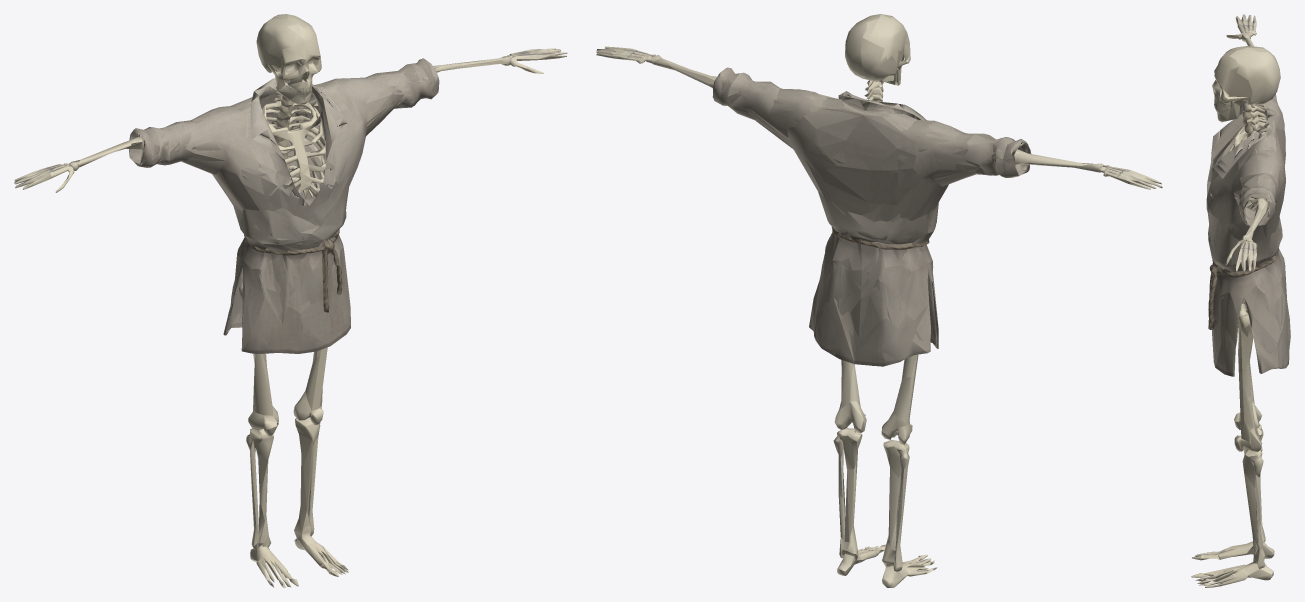
The model's file is skeleton_m.glb.
3 views of the same model, side by side, from view 1: azimuth 30°, elevation 25°; view 2: azimuth 150°, elevation 25°; view 3: azimuth 270°, elevation 25° (orthographic). The views are drawn at different scales.
Parts seen in each view (by area): view 1: SkeletonM; view 2: SkeletonM; view 3: SkeletonM.
Boxes of the visible parts, left/top/right/bottom form: SkeletonM: left=14, top=14, right=567, bottom=587; SkeletonM: left=596, top=14, right=1162, bottom=587; SkeletonM: left=1191, top=14, right=1290, bottom=587.
Size of the model in its own units: 1.91 by 1.8 by 0.3115.
1 material, 1 textured.
